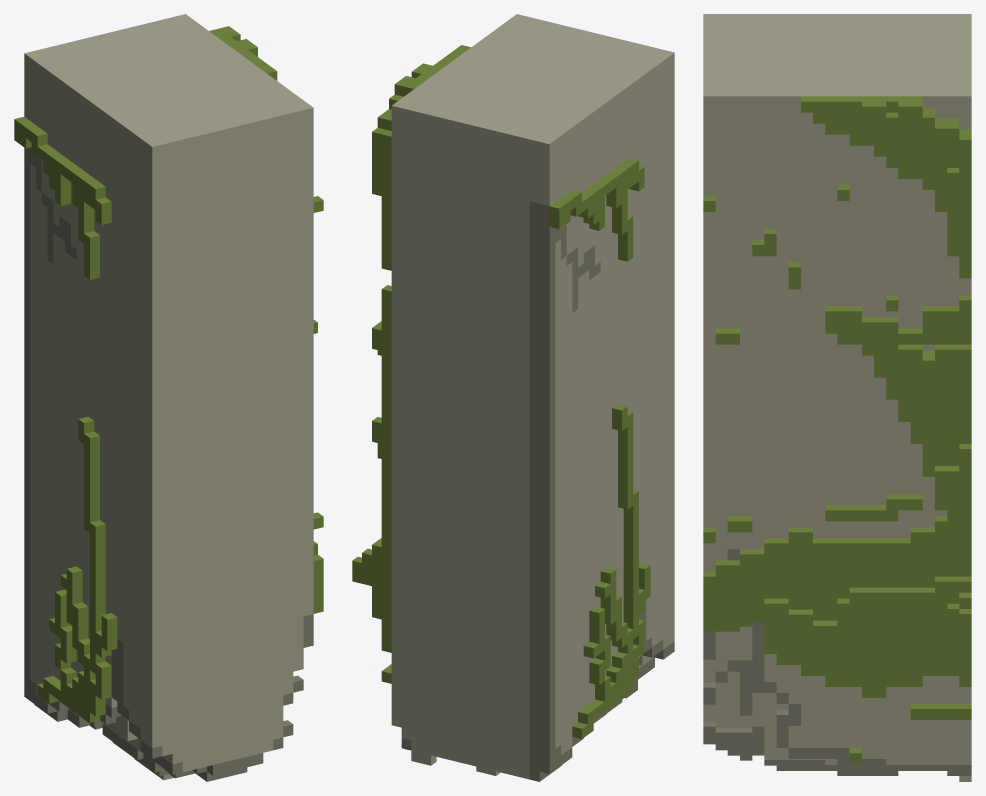
The model's file is forest1.2-0.obj.
3 views of the same model, side by side, from view 1: azimuth 30°, elevation 25°; view 2: azimuth 150°, elevation 25°; view 3: azimuth 270°, elevation 25° (orthographic). The views are drawn at different scales.
Bounding box in the file's own units: 2.1 × 6.3 × 2.2.
Materials: 1 (1 with a texture image).
